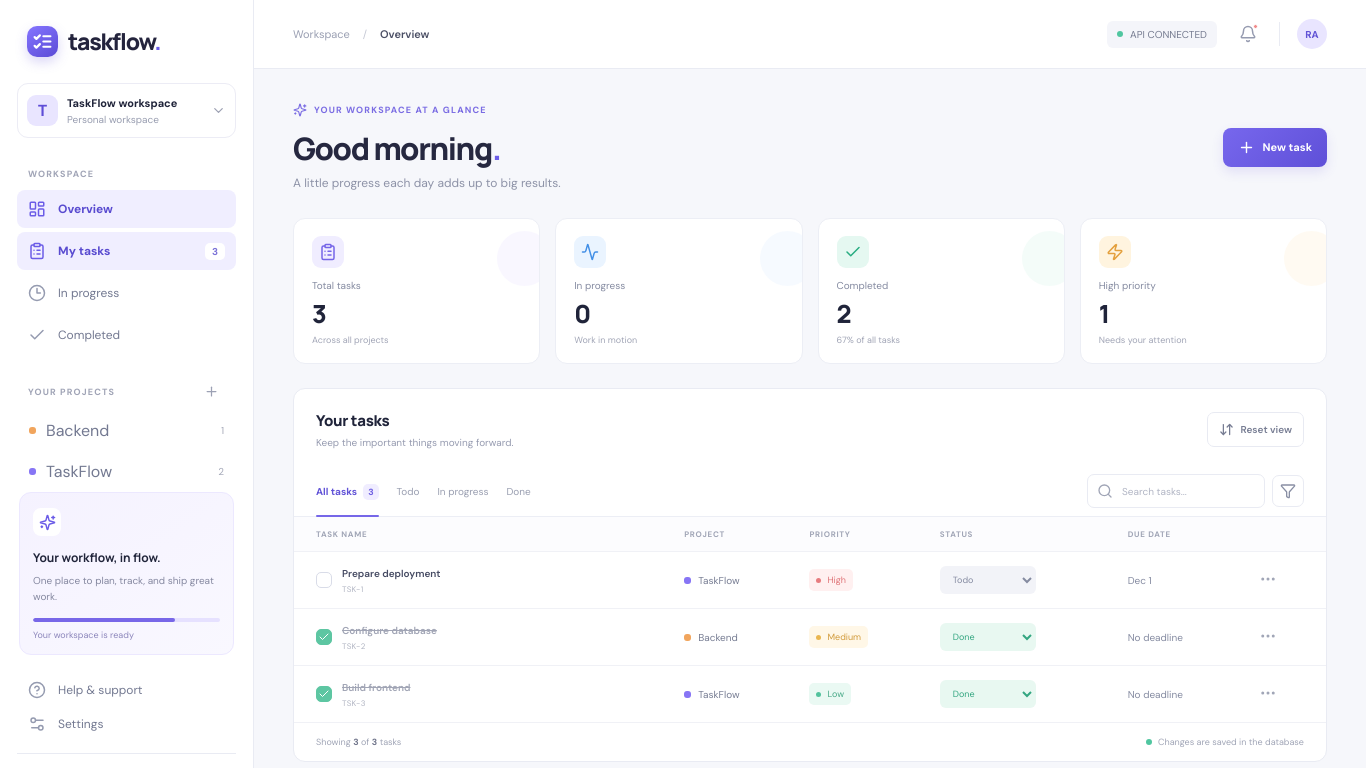
Test: TaskFlow application › updates a task status
This screenshot has width=1366, height=768.
Expected: the text "Prepare deployment" is shown, [342,566,441,580]
Select "Done" in the dropdown named "Status for Prepare deployment" at (988, 580), box [940,566,1036,594]
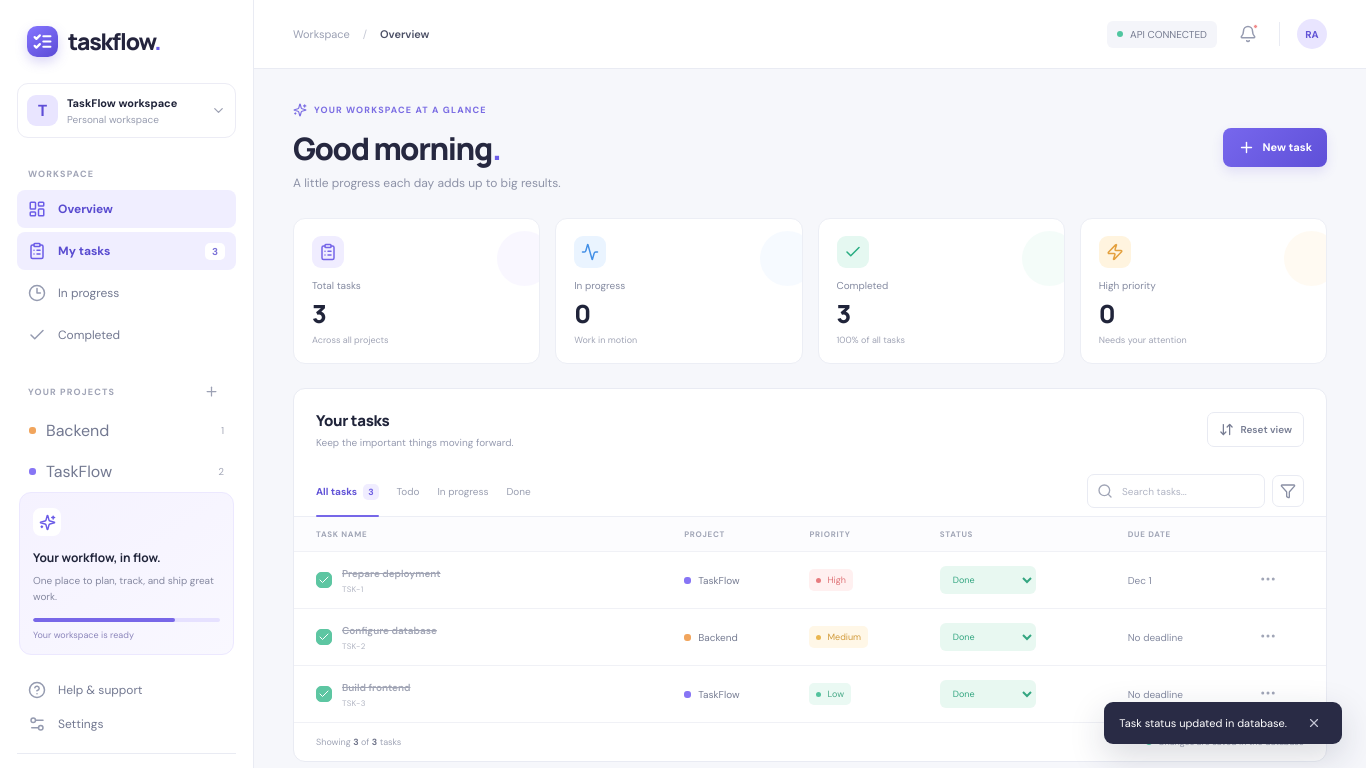
Now the text "Task status updated in database." is shown, box [1104,702,1342,744]
